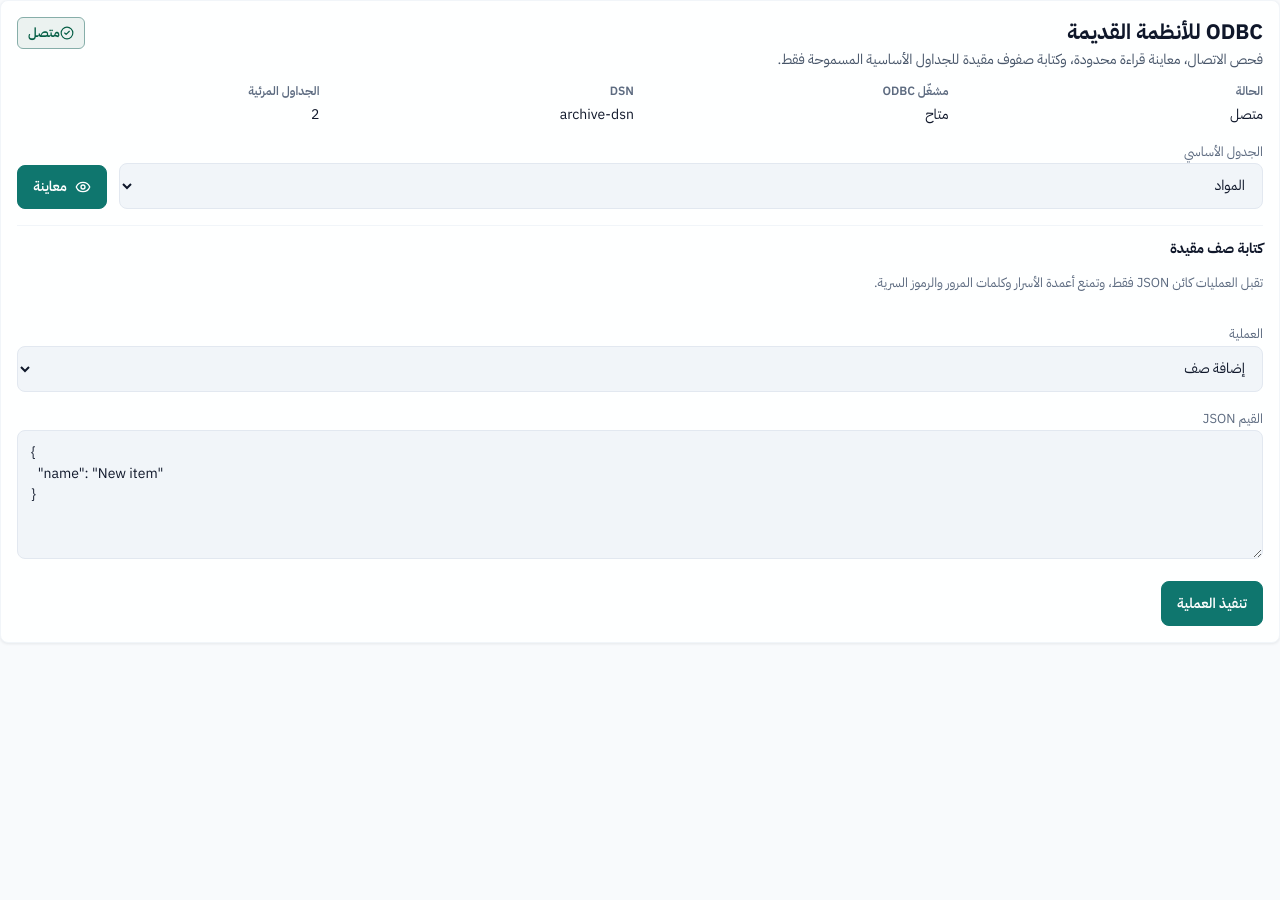
Test case: OdbcBridgePanel › loads a table preview when the preview button is clicked
Click the button "معاينة" at (62, 187), box [17,165,107,209]
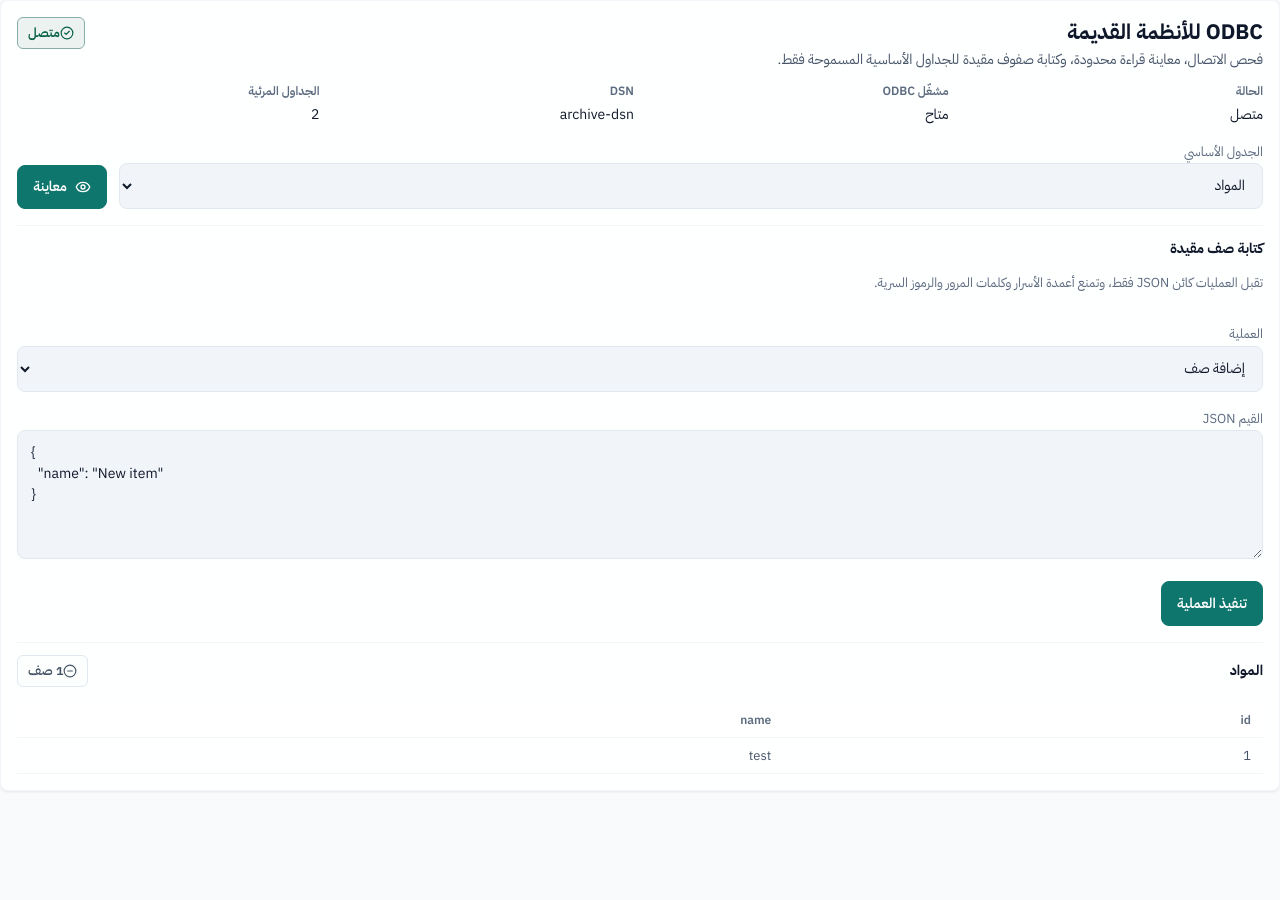
Expected: the text "test" is shown, [17,737,783,774]
